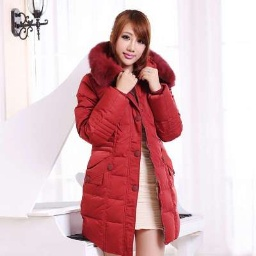face: (105, 7, 156, 75)
